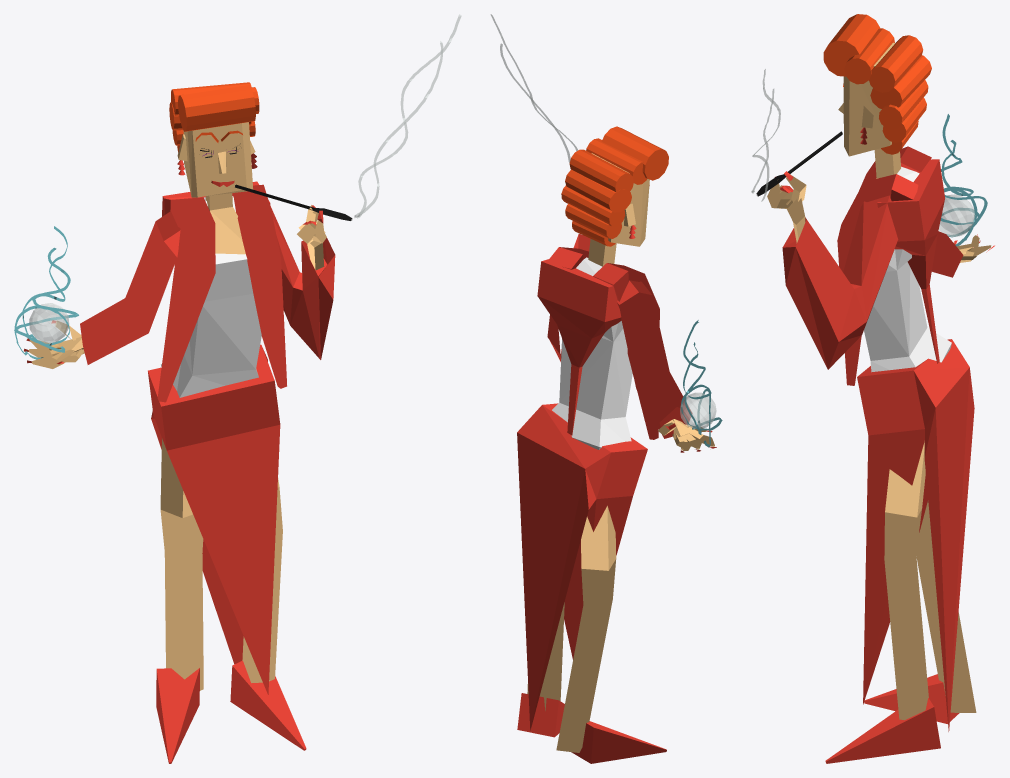
Rendered from Lady.glb.
The picture shows the model from 3 angles, left to right: view 1: azimuth 30°, elevation 25°; view 2: azimuth 150°, elevation 25°; view 3: azimuth 270°, elevation 25°; orthographic projection. The views are drawn at different scales.
Visible parts, largest first — view 1: Node; view 2: Node; view 3: Node.
Boxes of the visible parts, x1,y1,x2,y2 form: Node: [14, 14, 461, 763]; Node: [490, 14, 722, 763]; Node: [751, 14, 994, 763].
Size of the model in its own units: 1.17 by 2.34 by 0.6832.
